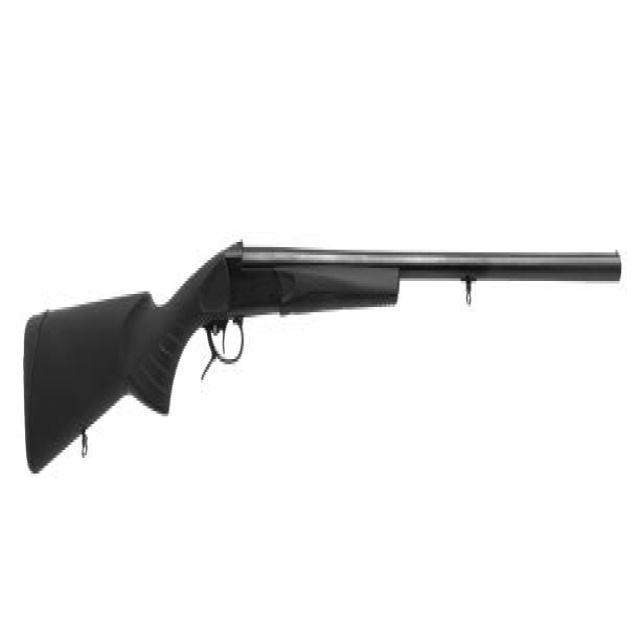rifle: (20, 237, 627, 480)
